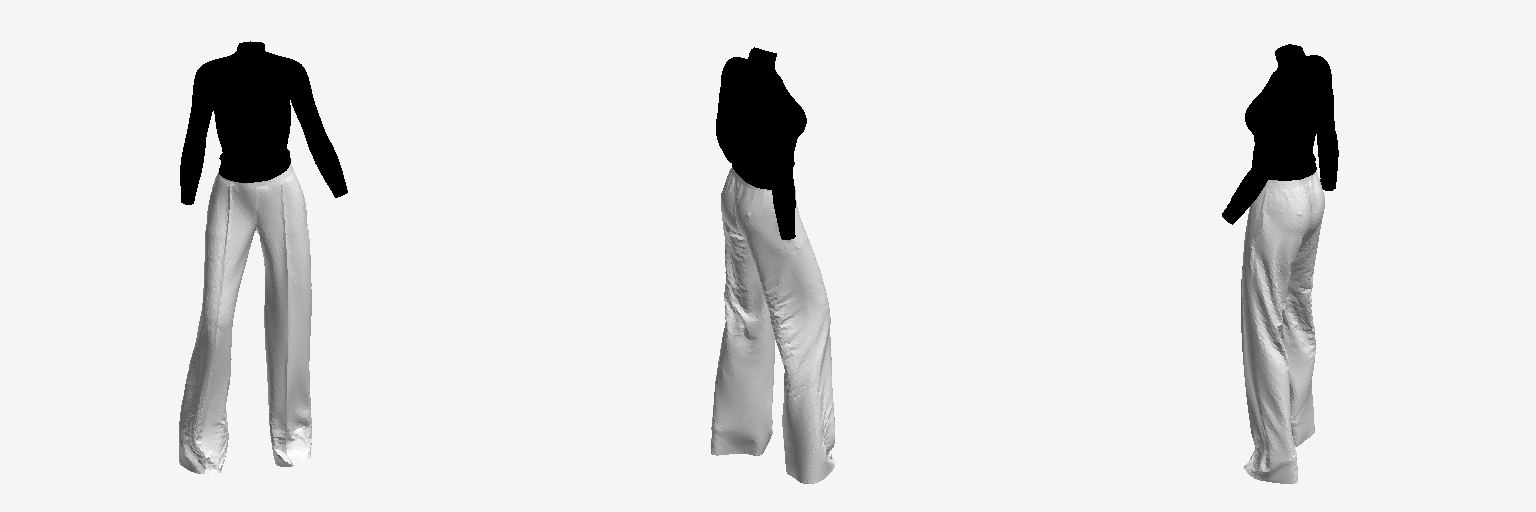
The model's file is DA_HighNeck+WidePants_0000074.obj.
3 views of the same model, side by side, from view 1: azimuth 30°, elevation 25°; view 2: azimuth 150°, elevation 25°; view 3: azimuth 270°, elevation 25° (orthographic).
Bounding box in the file's own units: 0.5487 × 1.64 × 0.4207.